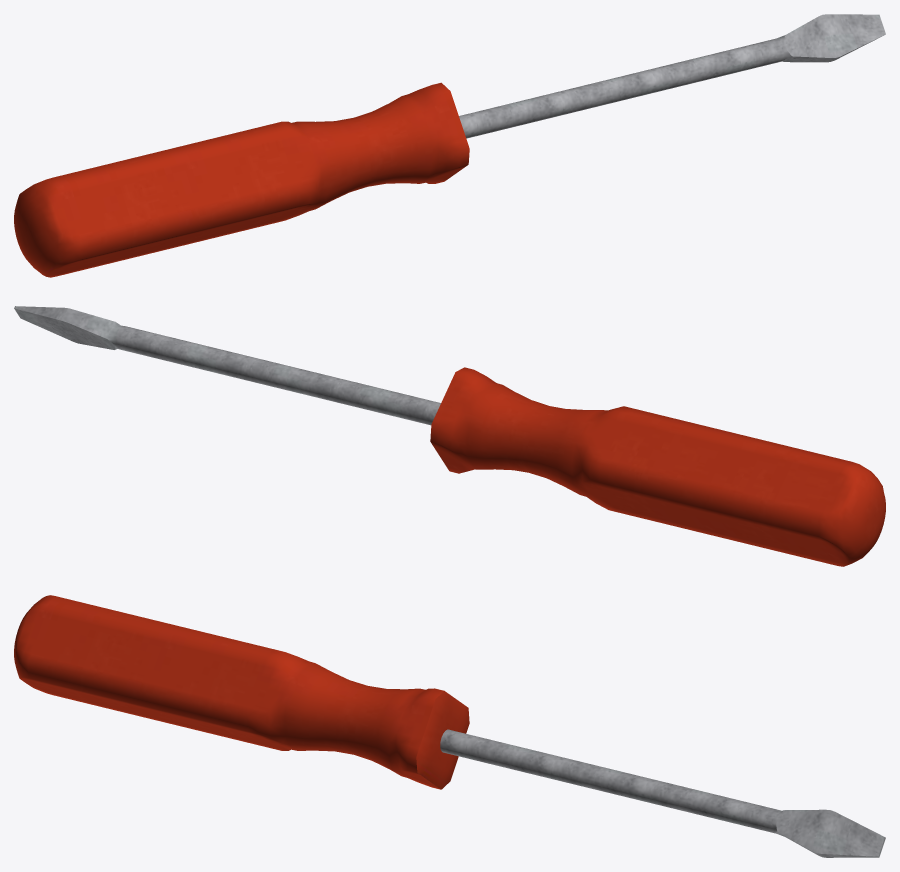
File: screwdriver.glb
The picture shows the model from 3 angles, top to bottom: view 1: azimuth 30°, elevation 25°; view 2: azimuth 150°, elevation 25°; view 3: azimuth 330°, elevation 25°; orthographic projection.
Parts seen in each view (by area): view 1: screwdriver; view 2: screwdriver; view 3: screwdriver.
Part boxes in pixels (x1=…): screwdriver: x1=14, y1=14, x2=885, y2=277; screwdriver: x1=14, y1=306, x2=885, y2=566; screwdriver: x1=14, y1=595, x2=885, y2=857.
Bounding box in the file's own units: 0.21 × 0.0227 × 0.0227.
Materials: 1 (1 with a texture image).
